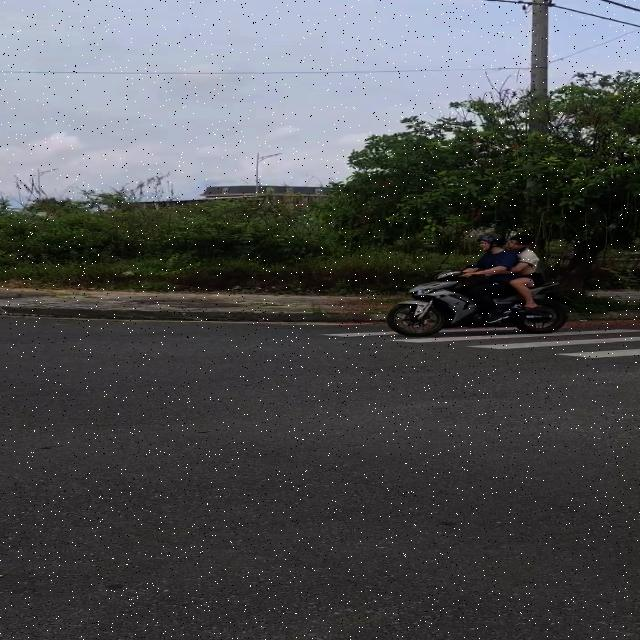helmet: (476, 233, 505, 258)
no_helmet: (511, 229, 542, 250)
